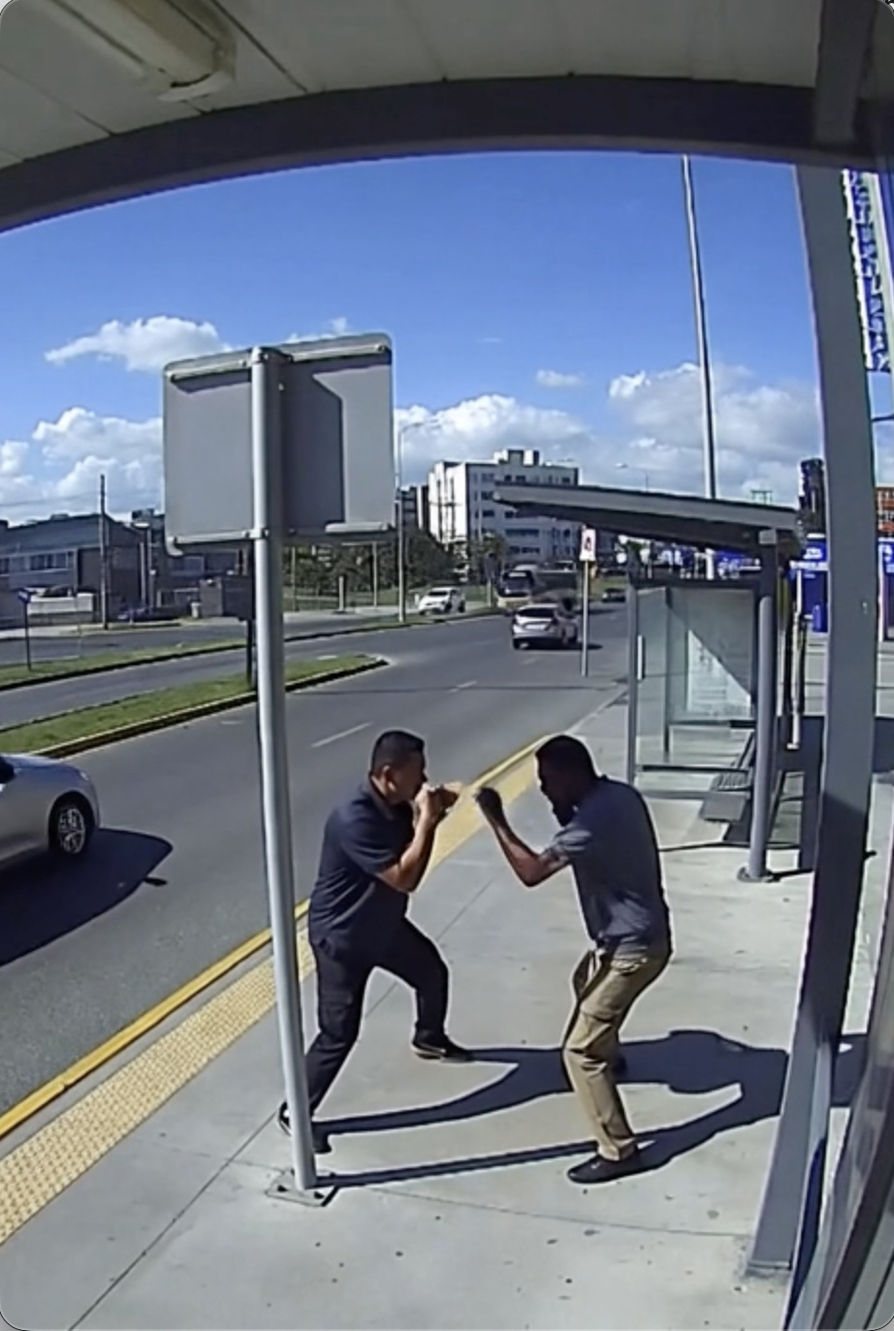Assault: (278, 729, 474, 1150)
Fighting: (478, 734, 674, 1186)
